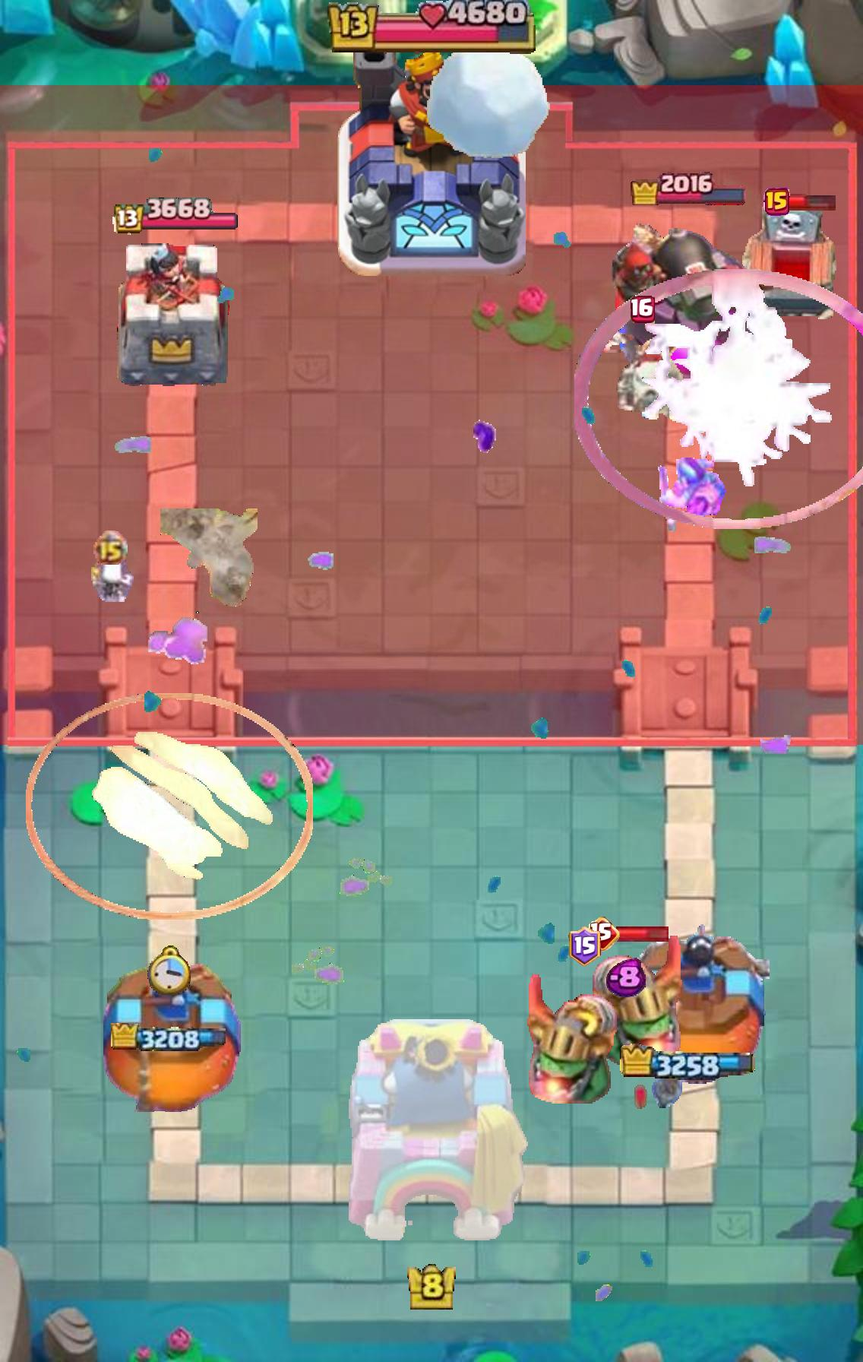bar: (786, 193, 836, 211), (616, 926, 669, 942)
bar-level: (569, 926, 601, 966), (585, 917, 620, 952), (763, 188, 790, 216), (631, 296, 655, 323)
